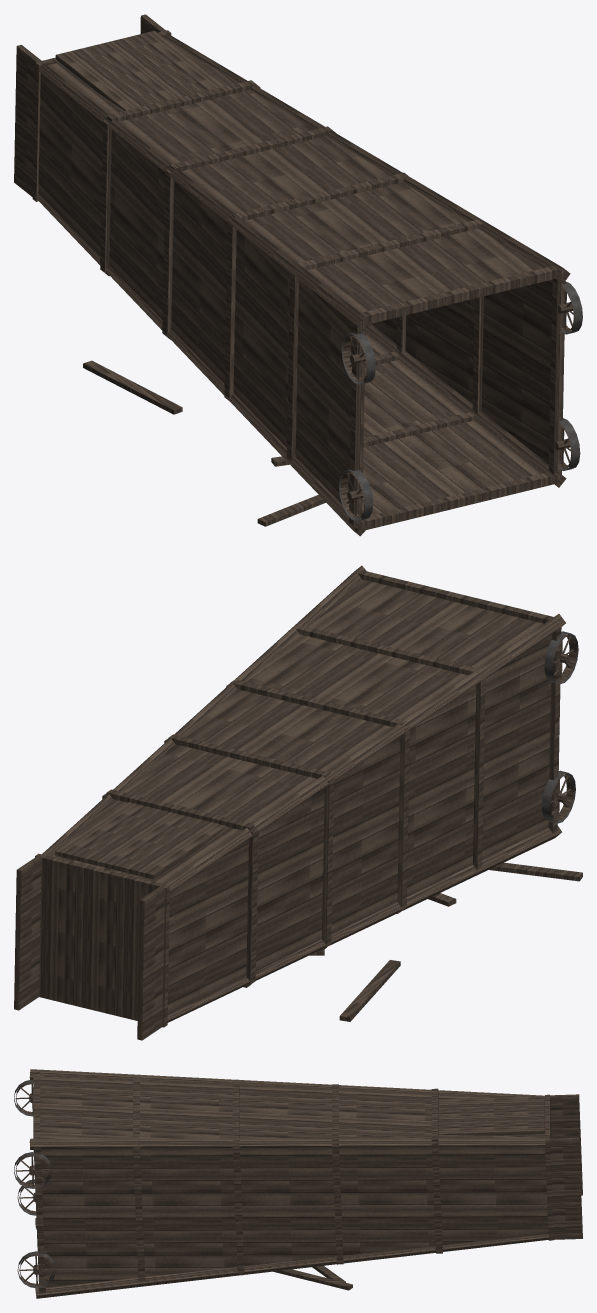
Rendered from SiegeTower_Wreck_1.gltf.
The picture shows the model from 3 angles, top to bottom: view 1: azimuth 30°, elevation 25°; view 2: azimuth 150°, elevation 25°; view 3: azimuth 270°, elevation 25°; orthographic projection. The views are drawn at different scales.
Visible parts, largest first — view 1: SiegeTower_Wreck_1; view 2: SiegeTower_Wreck_1; view 3: SiegeTower_Wreck_1.
Boxes of the visible parts, <box> form: SiegeTower_Wreck_1: <box>14,14,582,536</box>; SiegeTower_Wreck_1: <box>14,565,582,1040</box>; SiegeTower_Wreck_1: <box>14,1069,582,1298</box>.
Bounding box in the file's own units: 6.6 × 5.16 × 16.6.
Materials: 2 (2 with a texture image).
